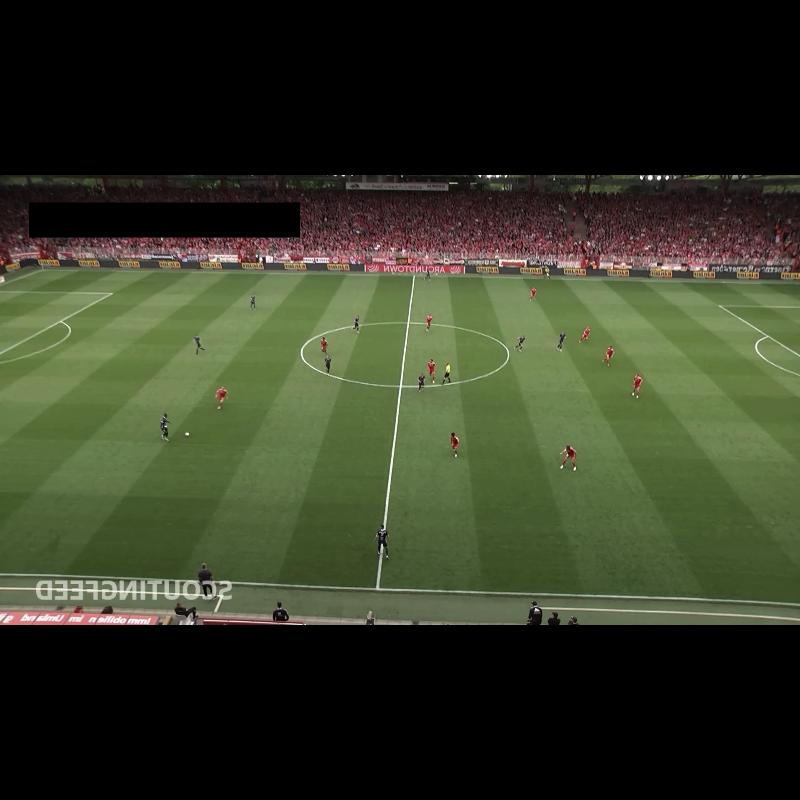cross_recipient_zone: (0, 291, 112, 354), (720, 306, 800, 355)
crossing_player_zone: (0, 269, 228, 294), (603, 280, 800, 306)
pitch: (0, 269, 800, 604)
